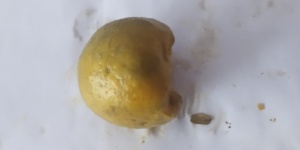BAD: (77, 15, 183, 128)
